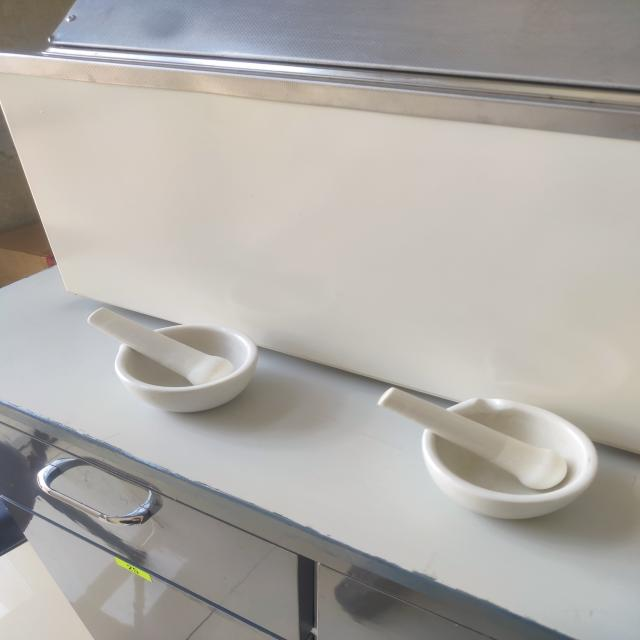Porcelain_Mortar Pestle: (348, 357, 632, 542), (69, 279, 278, 440)
